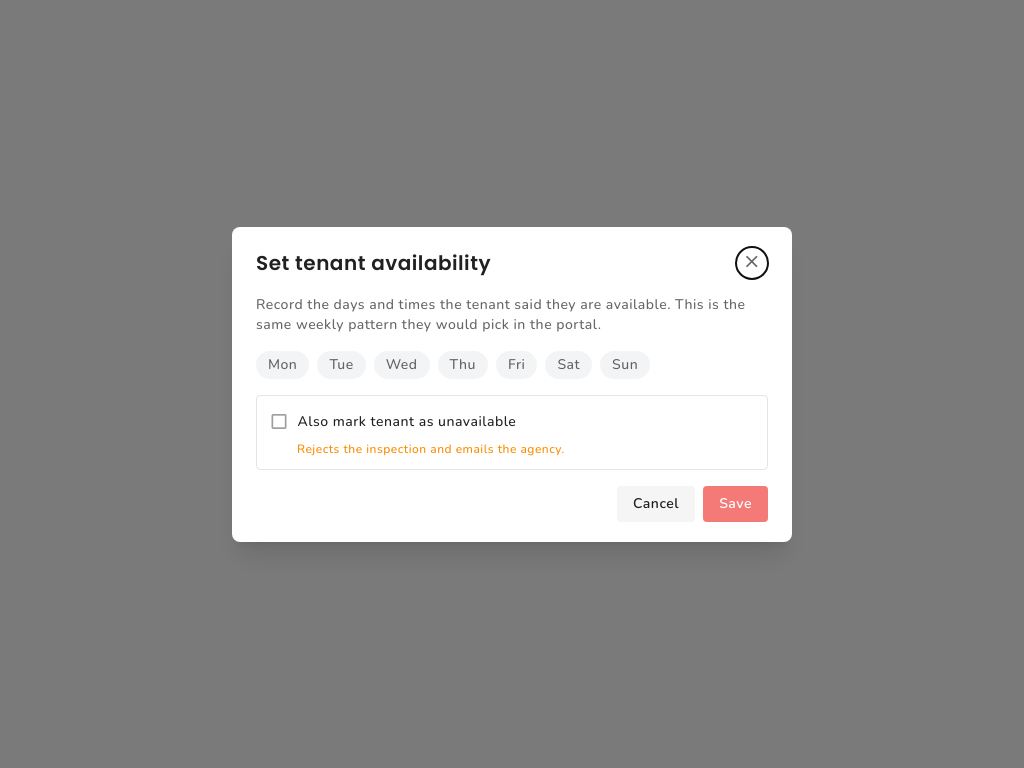
Test: TenantAvailabilityDialog › will not submit an empty week
The width and height of the screenshot is (1024, 768).
What coordinates should you click on to do the following:
click the button "Save"
I would click on:
 (736, 504)
Its box is [703, 486, 768, 522].
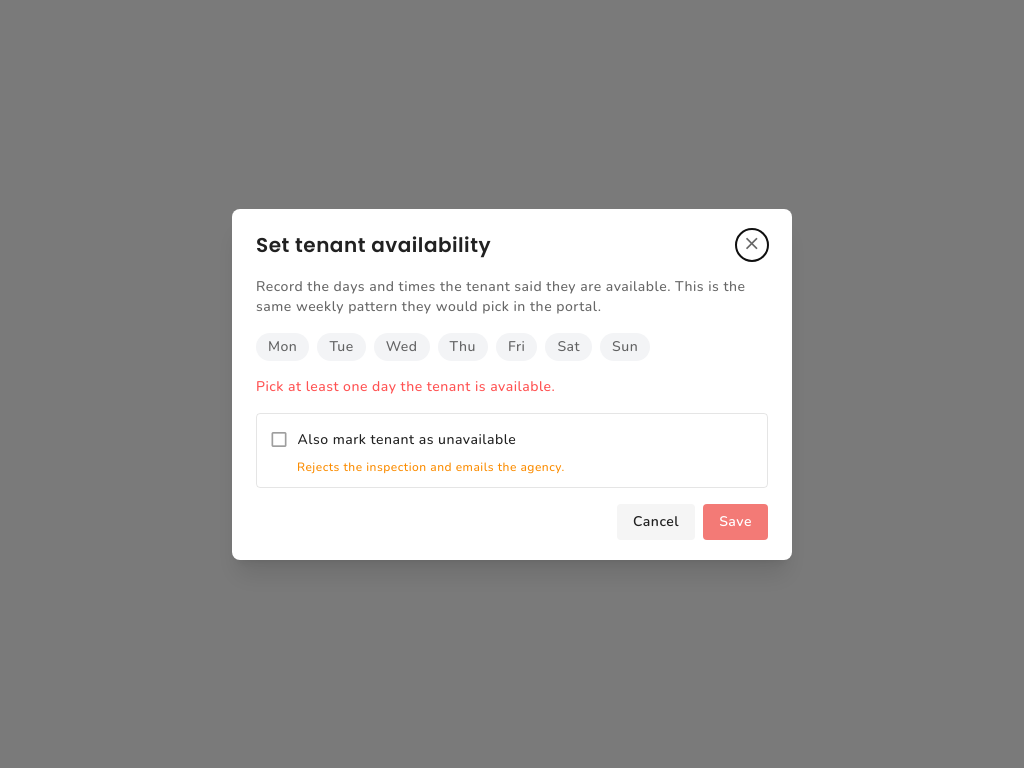
Now the text "Pick at least one day the tenant is available." is shown, box [256, 376, 555, 396]
